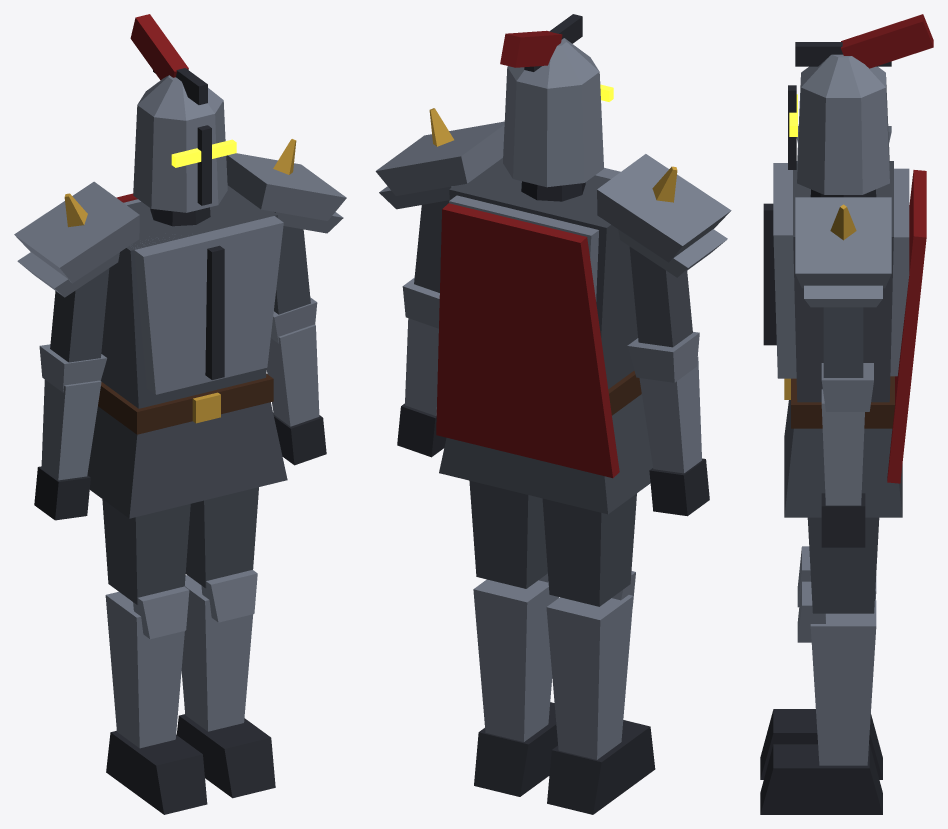
File: knight_player.glb
3 views of the same model, side by side, from view 1: azimuth 30°, elevation 25°; view 2: azimuth 150°, elevation 25°; view 3: azimuth 270°, elevation 25° (orthographic). The views are drawn at different scales.
Visible parts, largest first — view 1: Breastplate, Tasset, TorsoMail, GreaveR, GreaveL, Helm, ThighR, PauldronTopR, BootR, ThighL, BootL, PauldronTopL (+21 smaller); view 2: Cape, GreaveR, GreaveL, Helm, Tasset, TorsoMail, ThighR, PauldronTopR, ThighL, BootR, PauldronTopL, VambraceR (+16 smaller); view 3: Helm, GreaveL, PauldronTopL, BootL, Tasset, TorsoMail, ThighL, Cape, Breastplate, VambraceL, Backplate, HelmPlume (+13 smaller).
Boxes of the visible parts, left/top/right/bottom form: Breastplate: left=134, top=216, right=283, bottom=394; Tasset: left=87, top=402, right=287, bottom=518; TorsoMail: left=101, top=185, right=277, bottom=408; GreaveR: left=105, top=591, right=184, bottom=748; GreaveL: left=181, top=575, right=253, bottom=731; Helm: left=133, top=101, right=227, bottom=212; ThighR: left=102, top=499, right=190, bottom=604; PauldronTopR: left=14, top=181, right=139, bottom=283; BootR: left=106, top=730, right=207, bottom=814; ThighL: left=185, top=487, right=258, bottom=588; BootL: left=176, top=714, right=275, bottom=798; PauldronTopL: left=226, top=153, right=346, bottom=220; Cape: left=436, top=203, right=619, bottom=478; GreaveR: left=546, top=595, right=633, bottom=759; GreaveL: left=473, top=579, right=558, bottom=741; Helm: left=503, top=67, right=603, bottom=187; Tasset: left=439, top=394, right=652, bottom=514; TorsoMail: left=449, top=158, right=637, bottom=388; ThighR: left=542, top=493, right=636, bottom=606; PauldronTopR: left=597, top=154, right=731, bottom=262; ThighL: left=469, top=480, right=547, bottom=588; BootR: left=547, top=720, right=655, bottom=814; PauldronTopL: left=375, top=121, right=504, bottom=195; VambraceR: left=639, top=357, right=701, bottom=473; Helm: left=797, top=77, right=889, bottom=194; GreaveL: left=810, top=600, right=876, bottom=765; PauldronTopL: left=795, top=197, right=891, bottom=288; BootL: left=760, top=744, right=882, bottom=814; Tasset: left=784, top=400, right=902, bottom=517; TorsoMail: left=793, top=161, right=893, bottom=402; ThighL: left=807, top=517, right=879, bottom=613; Cape: left=887, top=170, right=926, bottom=483; Breastplate: left=773, top=163, right=796, bottom=378; VambraceL: left=821, top=389, right=864, bottom=505; Backplate: left=890, top=168, right=909, bottom=376; HelmPlume: left=841, top=14, right=933, bottom=68.
Bounding box in the file's own units: 0.8043 × 1.94 × 0.3959.
